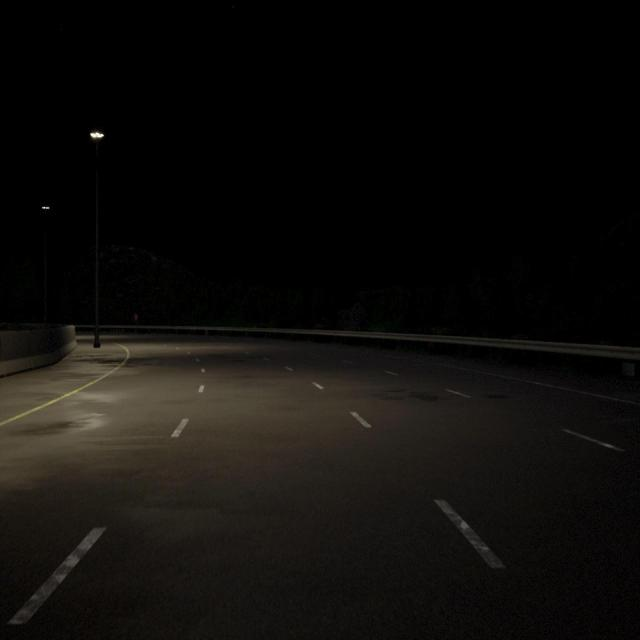Traffic_Signs: (134, 314, 138, 320)
